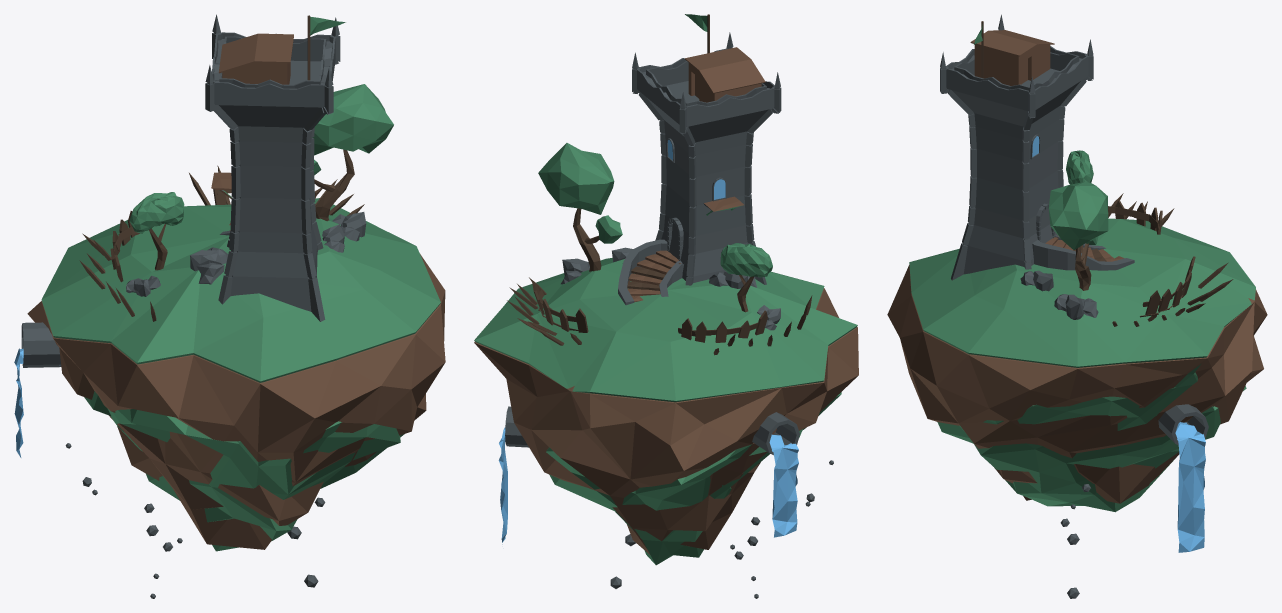
File: tower.obj
The picture shows the model from 3 angles, left to right: view 1: azimuth 30°, elevation 25°; view 2: azimuth 150°, elevation 25°; view 3: azimuth 270°, elevation 25°; orthographic projection. The views are drawn at different scales.
Visible parts, largest first — view 1: Ground_1; view 2: Ground_1; view 3: Ground_1.
Part boxes in pixels (left/top/right/bottom): Ground_1: left=14, top=14, right=445, bottom=598; Ground_1: left=474, top=14, right=858, bottom=598; Ground_1: left=887, top=14, right=1267, bottom=598.
Bounding box in the file's own units: 11.56 × 19.02 × 11.84.
